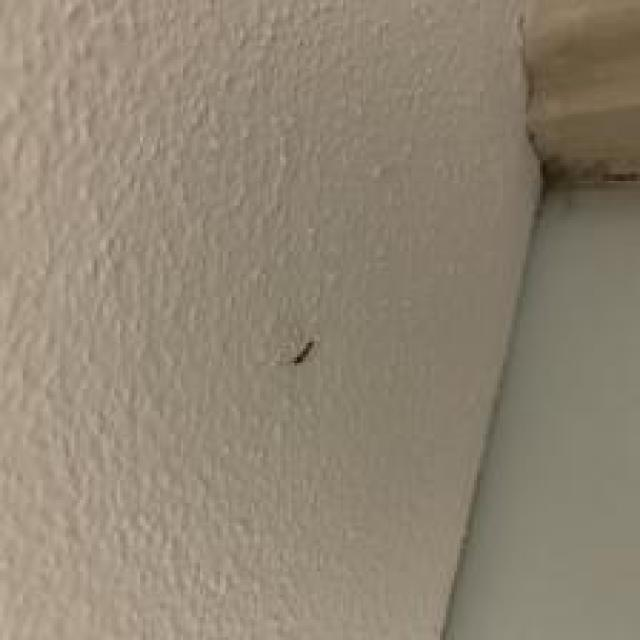Culex: (517, 0, 640, 189)
